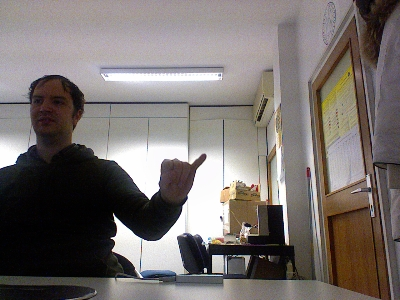小指: (157, 152, 207, 202)
